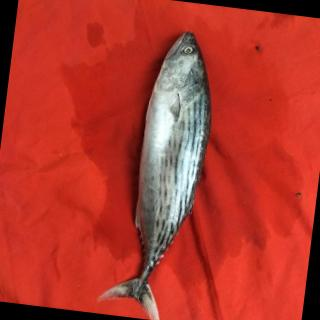Ikan: (100, 20, 223, 320)
